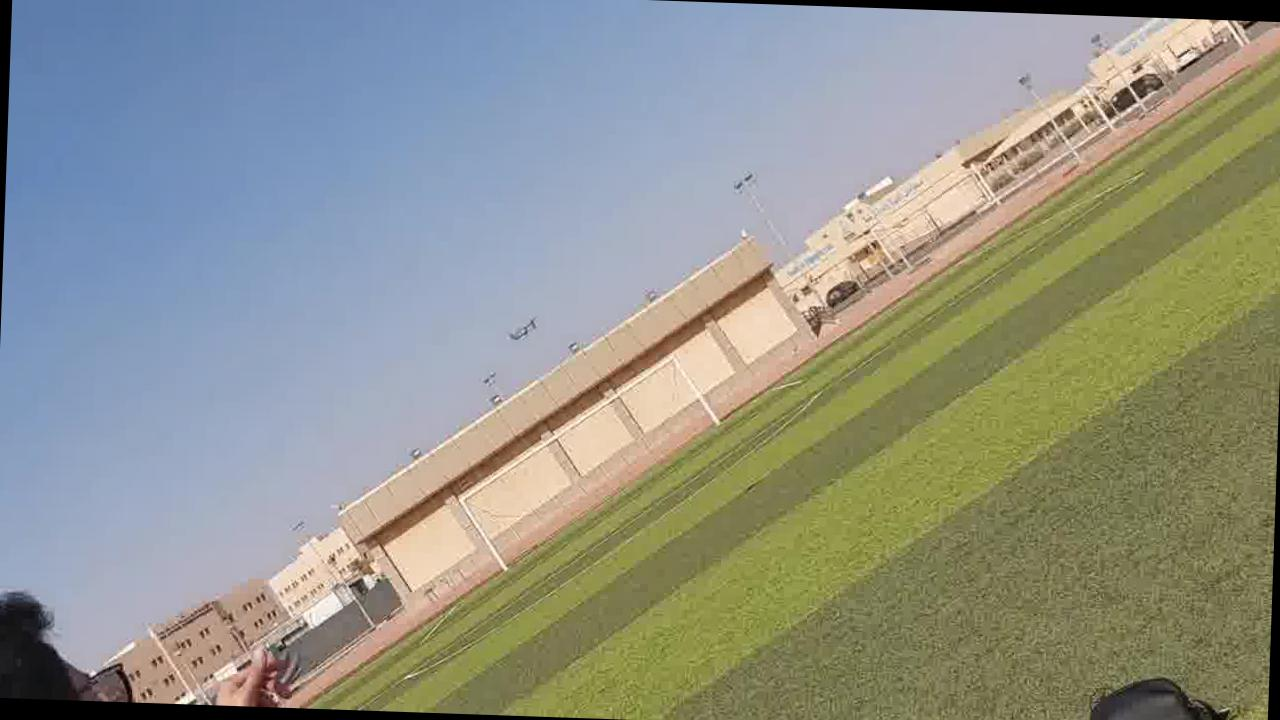drone: (500, 306, 542, 344)
